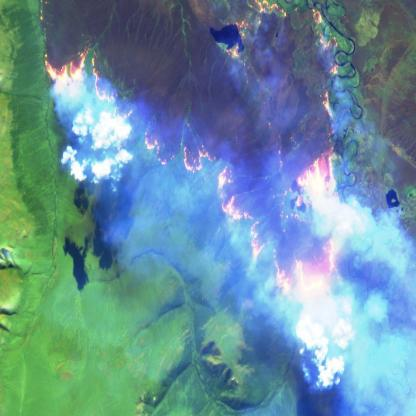fire: (30, 0, 361, 323)
